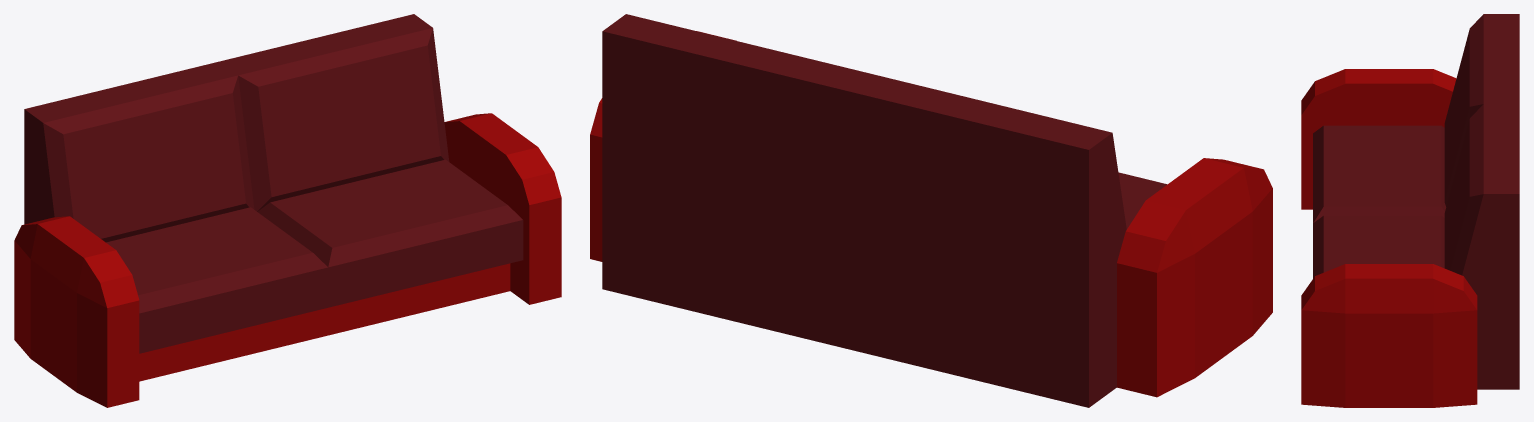
Rendered from g_o_Sofa2_02.fbx.
3 views of the same model, side by side, from view 1: azimuth 30°, elevation 25°; view 2: azimuth 150°, elevation 25°; view 3: azimuth 270°, elevation 25° (orthographic). The views are drawn at different scales.
Visible parts, largest first — view 1: g_o_2SeatSofa_02; view 2: g_o_2SeatSofa_02; view 3: g_o_2SeatSofa_02.
Boxes of the visible parts, <box> form: g_o_2SeatSofa_02: <box>14,14,561,407</box>; g_o_2SeatSofa_02: <box>590,14,1272,407</box>; g_o_2SeatSofa_02: <box>1301,14,1519,407</box>.
Size of the model in its own units: 178 by 75.25 by 75.97.
